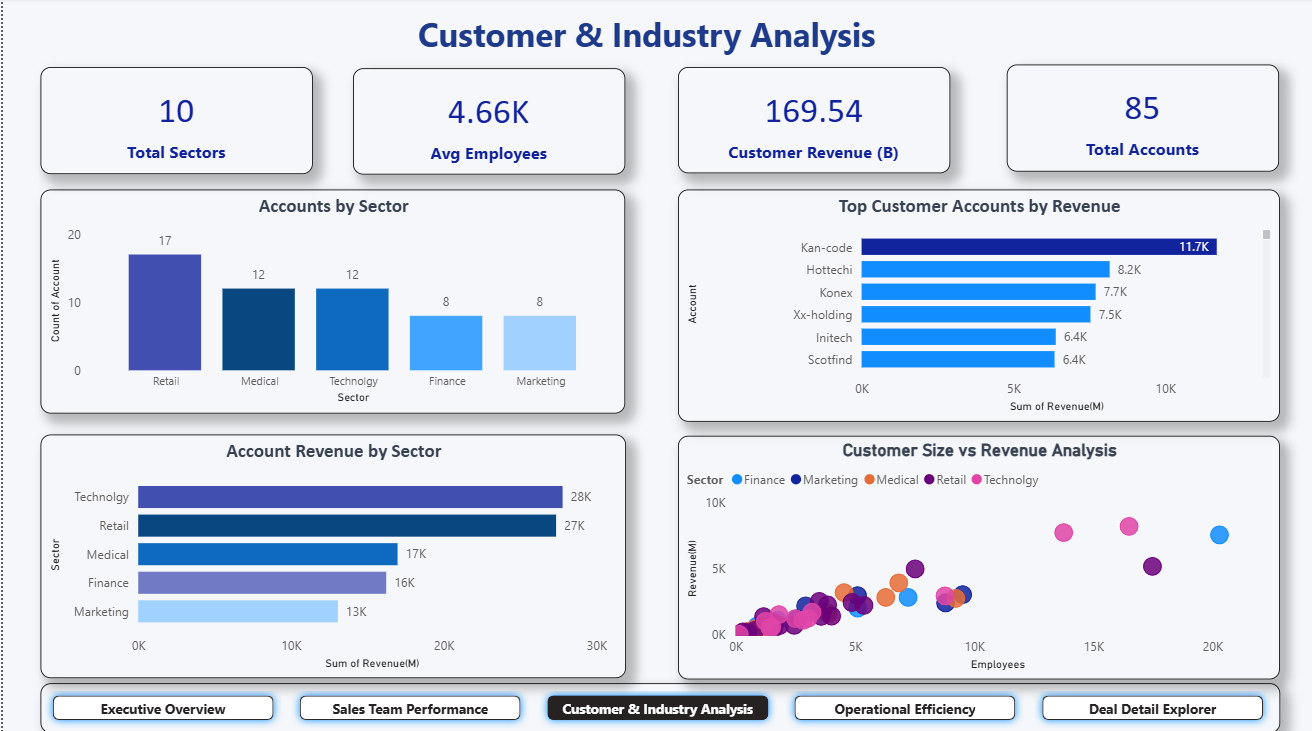

Layout of this report page (visuals, bound fields, positions):
{"tool":"powerbi","page":{"name":"Customer & Industry Analysis","canvas":[1280,720],"ordinal":2},"visuals":[{"type":"cardVisual","fields":{"Data":["accounts.Total Sectors"]},"box":[36.2,68.8,266.2,105],"z":0},{"type":"cardVisual","fields":{"Data":["accounts.Avg Employees"]},"box":[342.5,70,266.2,103.8],"z":1000},{"type":"cardVisual","title":"Customer Revenue (M)","fields":{"Data":["accounts.Customer Revenue (B)"]},"box":[660,68.8,266.2,103.8],"z":2000},{"type":"cardVisual","fields":{"Data":["accounts.Total Accounts"]},"box":[982.5,66.2,266.2,105],"z":3000},{"type":"barChart","title":"Account Revenue by Sector","fields":{"Category":["accounts.Sector"],"Y":["Sum(accounts.Revenue(M))"]},"box":[36.2,427.5,572.5,238.8],"z":4000},{"type":"columnChart","title":"Accounts by Sector","fields":{"Category":["accounts.Sector"],"Y":["CountNonNull(accounts.Account)"]},"box":[36.7,188.3,572.3,218.9],"z":5000},{"type":"scatterChart","title":"Customer Size vs Revenue Analysis","fields":{"X":["accounts.Employees"],"Y":["accounts.Revenue(M)"],"Series":["accounts.Sector"]},"box":[660,428.8,588.8,238.8],"z":6000},{"type":"barChart","title":"Top Customer Accounts by Revenue","fields":{"Category":["accounts.Account"],"Y":["Sum(accounts.Revenue(M))"]},"box":[660,188.8,588.8,227.5],"z":7000},{"type":"textbox","box":[36.7,9.8,1186.1,57.5],"z":8000},{"type":"pageNavigator","box":[36.2,671.2,1212.5,48.8],"z":9000}]}

Visuals, with their boxes in screenshot pixels (x1, y1, x2, y2), scaled from the page's 1280x720 canvas onto the 1312x731 screenshot:
cardVisual - accounts.Total Sectors: left=37, top=70, right=310, bottom=176
cardVisual - accounts.Avg Employees: left=351, top=71, right=624, bottom=176
"Customer Revenue (M)" cardVisual: left=676, top=70, right=949, bottom=175
cardVisual - accounts.Total Accounts: left=1007, top=67, right=1280, bottom=174
"Account Revenue by Sector" barChart: left=37, top=434, right=624, bottom=676
"Accounts by Sector" columnChart: left=38, top=191, right=624, bottom=413
"Customer Size vs Revenue Analysis" scatterChart: left=676, top=435, right=1280, bottom=678
"Top Customer Accounts by Revenue" barChart: left=676, top=192, right=1280, bottom=423
textbox: left=38, top=10, right=1253, bottom=68
pageNavigator: left=37, top=681, right=1280, bottom=730
